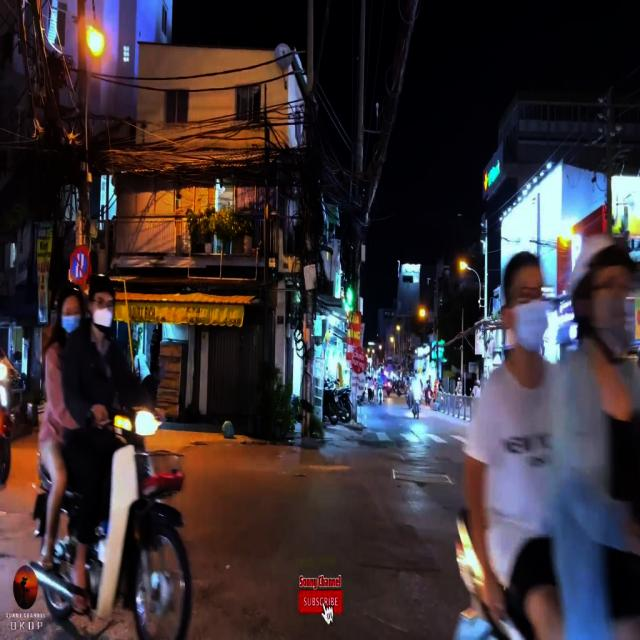cam_do_xe: (70, 246, 92, 285)
